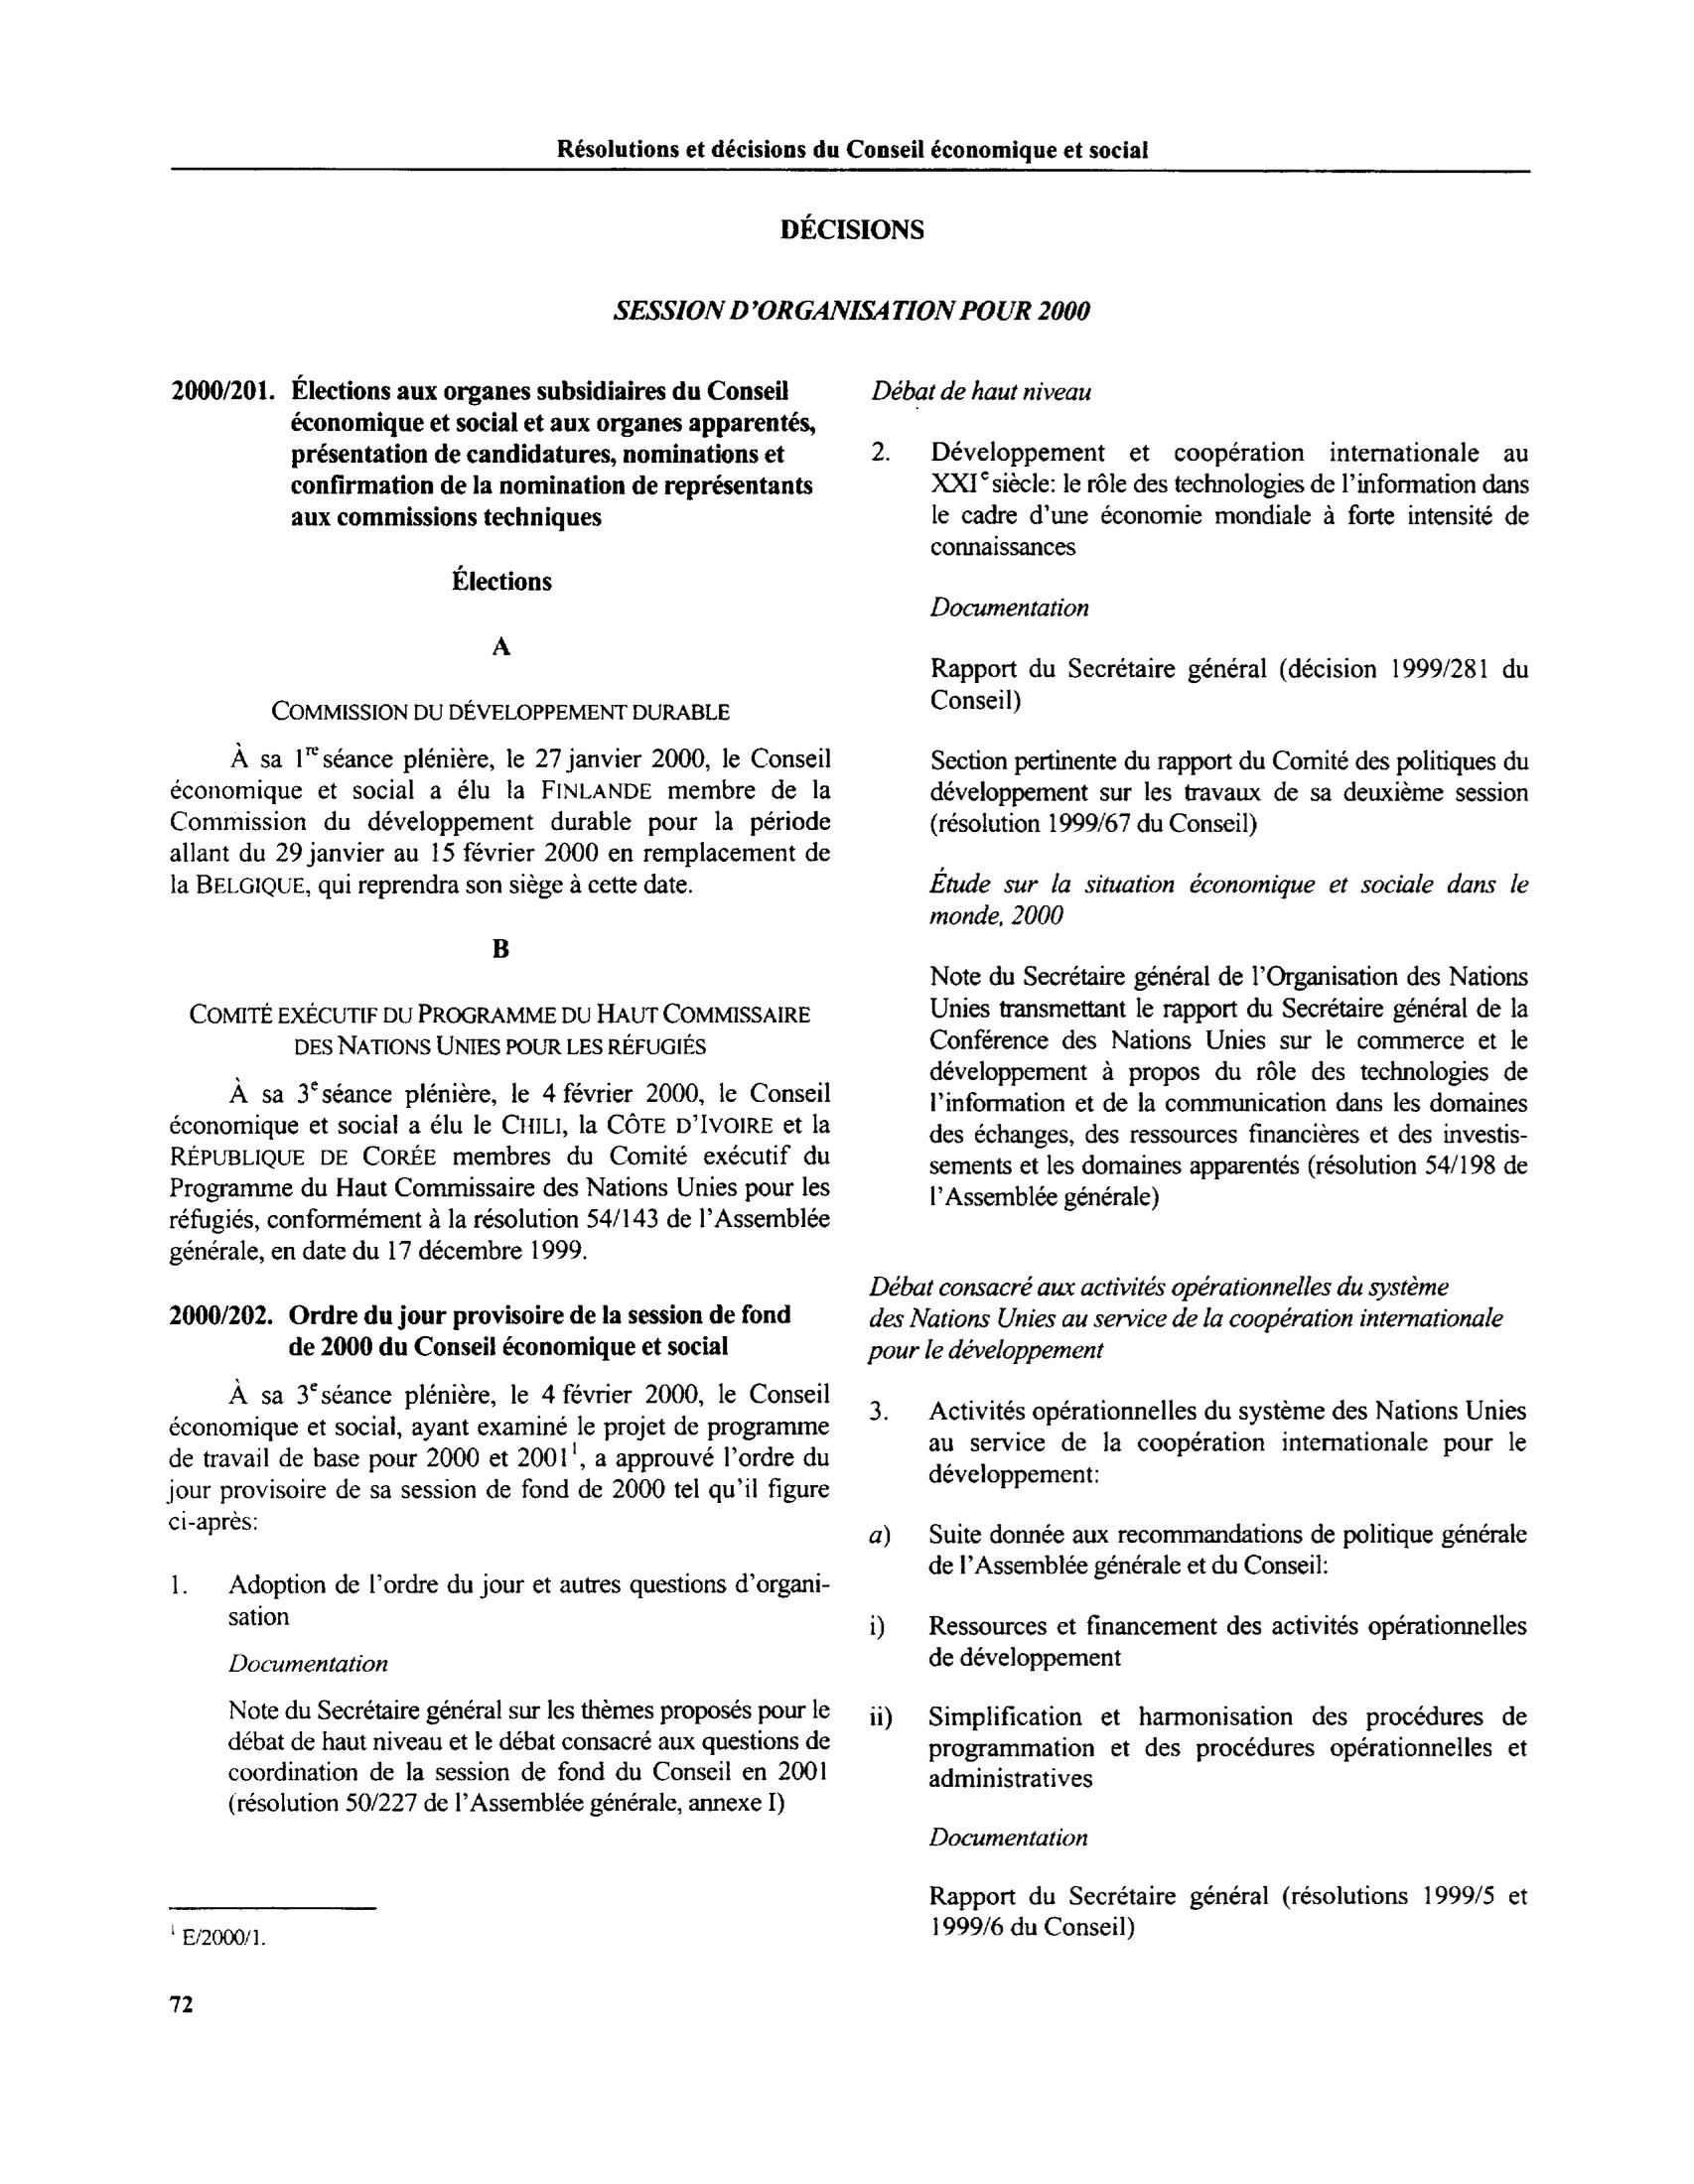MainZone-Head: (163, 369, 828, 538), (178, 994, 822, 1063), (164, 1297, 801, 1365), (603, 284, 1103, 340), (261, 690, 740, 727), (767, 204, 936, 251), (438, 561, 564, 597), (483, 626, 520, 662), (484, 932, 517, 968)
MainZone-ListItem: (855, 428, 1541, 567), (858, 1389, 1533, 1496), (856, 1695, 1538, 1797), (856, 1512, 1535, 1586), (157, 1567, 835, 1637), (856, 1608, 1538, 1668)
MainZone-P: (921, 958, 1536, 1222), (165, 1074, 836, 1266), (162, 739, 838, 906), (160, 1376, 834, 1541), (212, 1689, 839, 1825), (853, 1264, 1516, 1369), (920, 741, 1536, 846), (911, 1871, 1543, 1958), (917, 647, 1539, 722), (918, 866, 1538, 936), (859, 366, 1105, 412), (918, 586, 1098, 629), (920, 1819, 1101, 1856), (215, 1651, 400, 1680)
MarginTextZone-Notes: (161, 1921, 277, 1952)
NumberingZone: (162, 1986, 204, 2024)
RunningTitleZone: (543, 126, 1161, 173)
